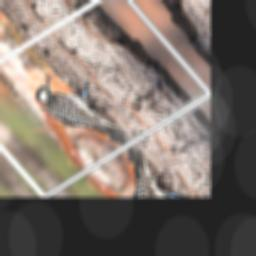Woodpecker: (19, 54, 144, 167)
